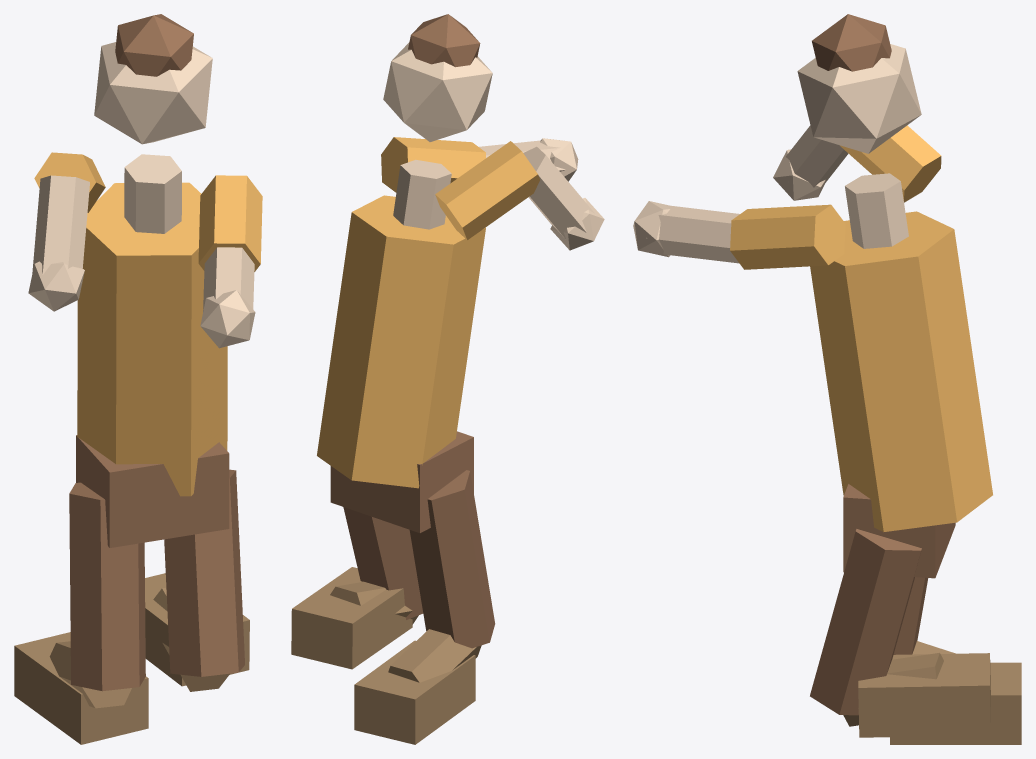
The model's file is pose_attack_1_15.glb.
3 renders of one model, left to right at view 1: azimuth 30°, elevation 25°; view 2: azimuth 150°, elevation 25°; view 3: azimuth 270°, elevation 25°, orthographic. The views are drawn at different scales.
Visible parts, largest first — view 1: pose; view 2: pose; view 3: pose.
Part boxes in pixels (x1,y1,x2,y2): pose: (14, 14, 262, 744); pose: (291, 14, 604, 744); pose: (633, 14, 1021, 744).
Bounding box in the file's own units: 0.5081 × 1.45 × 0.7074.
